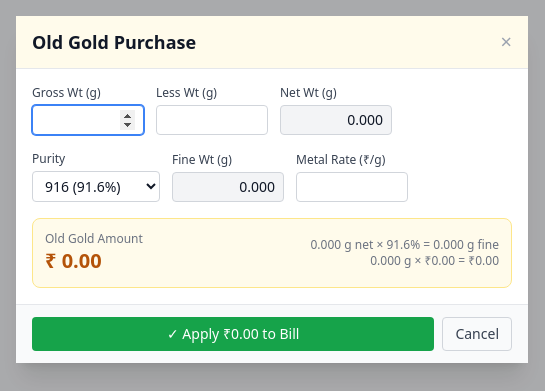
Scenario: OldGoldPurchaseModal › calculations › calculates net weight = gross - less
The width and height of the screenshot is (545, 391).
Type "10" into the number field with test id "og-gross-weight" at (88, 120), box [32,104,144,134]
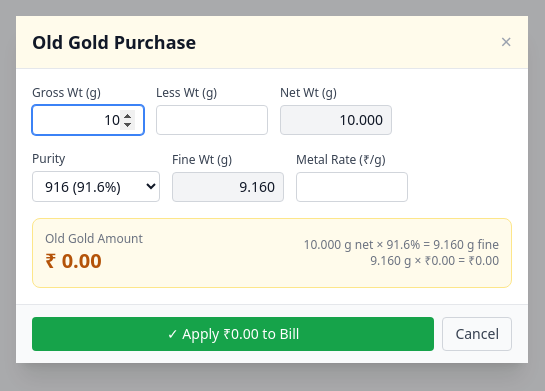
Type "1.5" into the number field with test id "og-less-weight" at (212, 120), box [156,104,268,134]
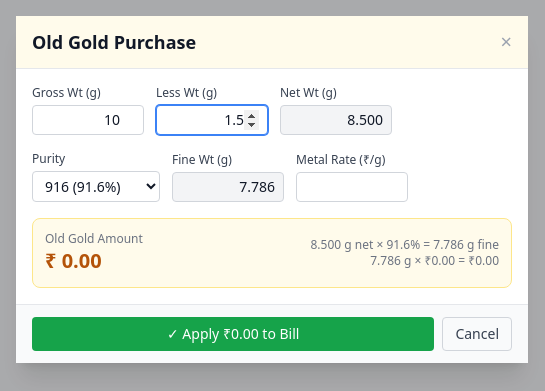
Expected: the field with test id "og-net-weight" holds "8.500", [280,104,392,134]
